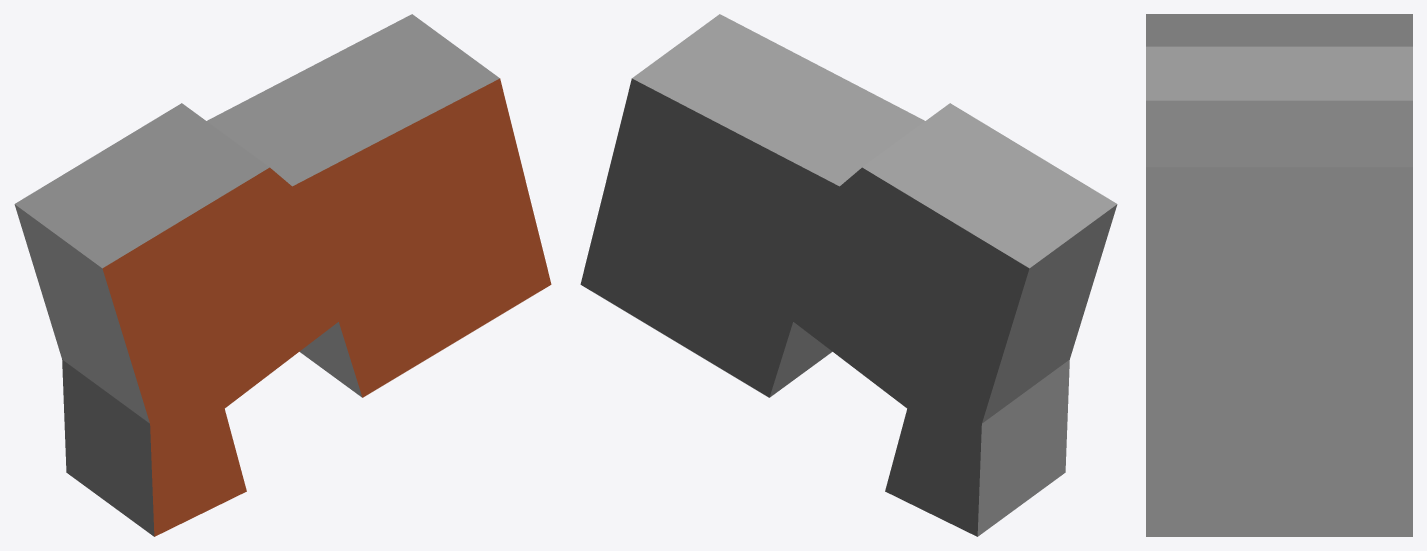
File: construction_4163_assumed_A_Casa_h6m.obj
The picture shows the model from 3 angles, left to right: view 1: azimuth 30°, elevation 25°; view 2: azimuth 150°, elevation 25°; view 3: azimuth 270°, elevation 25°; orthographic projection. The views are drawn at different scales.
Parts seen in each view (by area): view 1: construction_4163_assumed_A_Casa; view 2: construction_4163_assumed_A_Casa; view 3: construction_4163_assumed_A_Casa.
Boxes of the visible parts, x1,y1,x2,y2 form: construction_4163_assumed_A_Casa: (14,14,551,536); construction_4163_assumed_A_Casa: (580,14,1117,536); construction_4163_assumed_A_Casa: (1146,14,1412,536).
Size of the model in its own units: 17.69 by 14.08 by 6.
